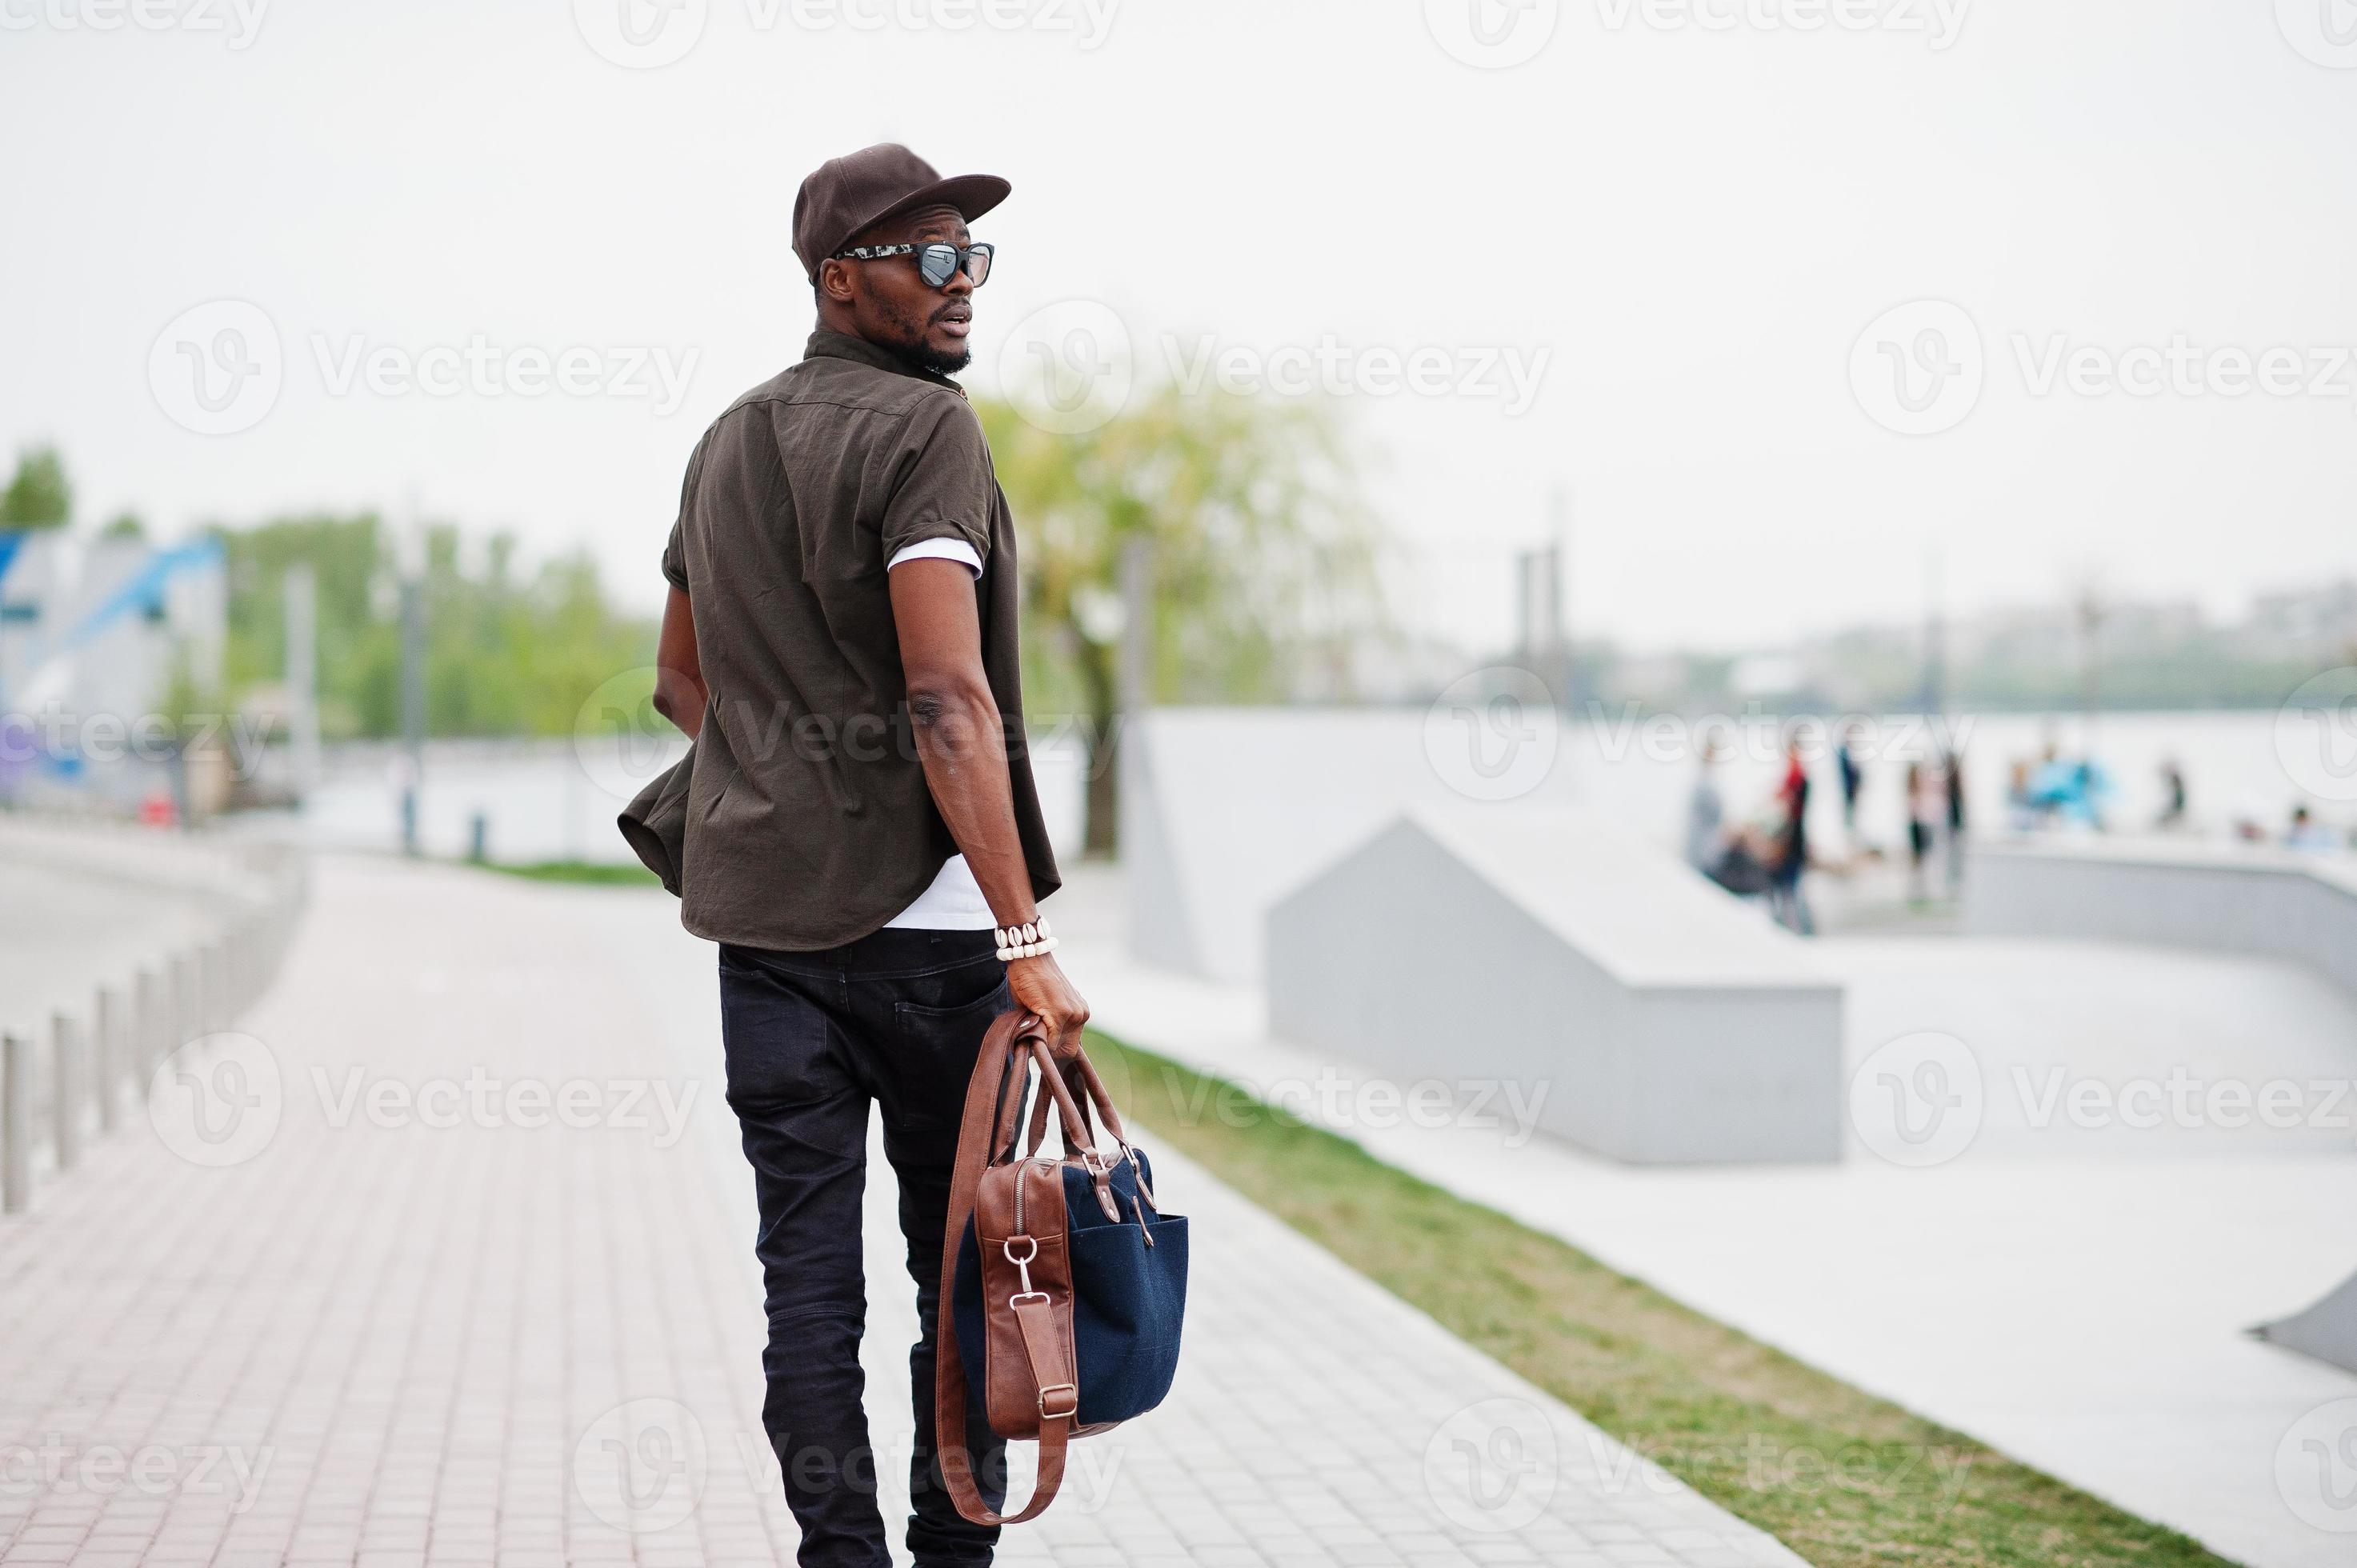person: (648, 132, 1195, 1568)
